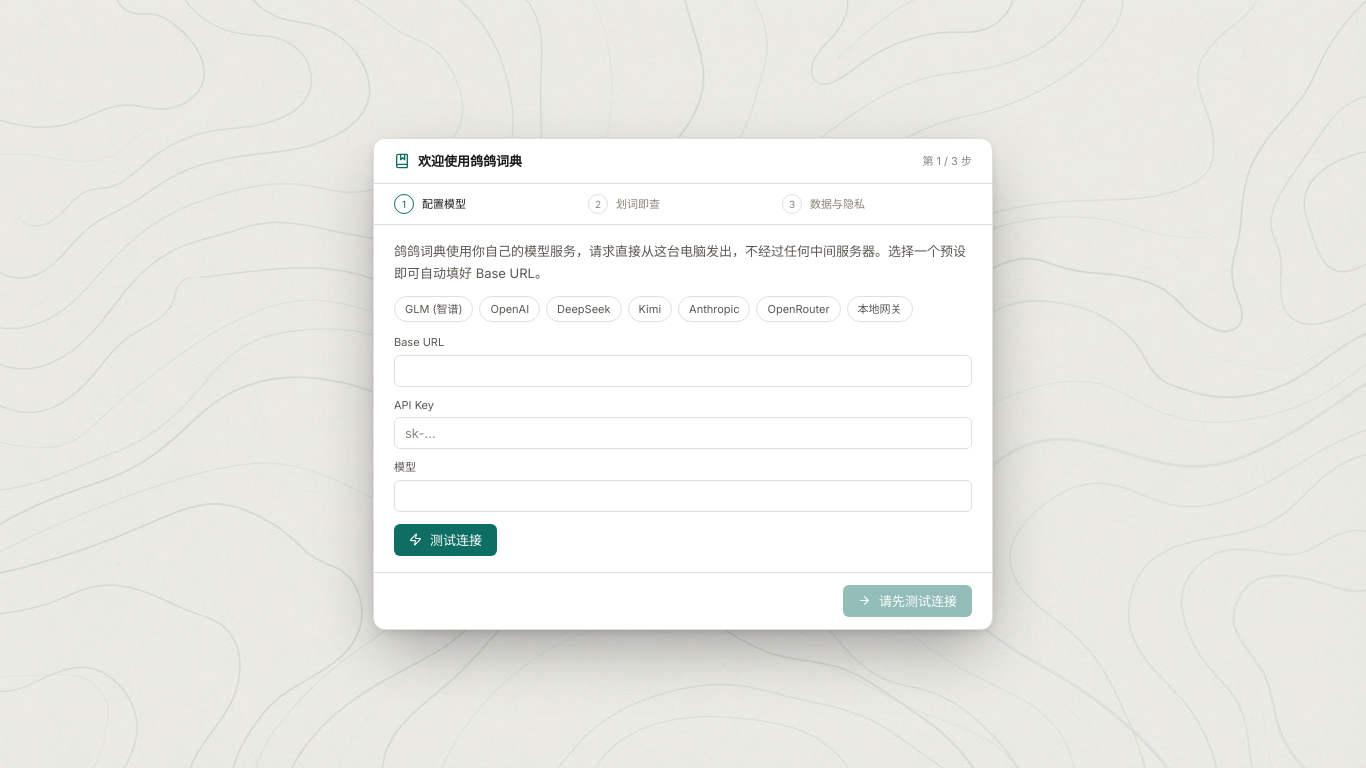
onboarding connection test › says why a test failed instead of always blaming the API key, and keeps the user on this step
Click the button "测试连接" at (446, 540), box 394,524 -> 497,556
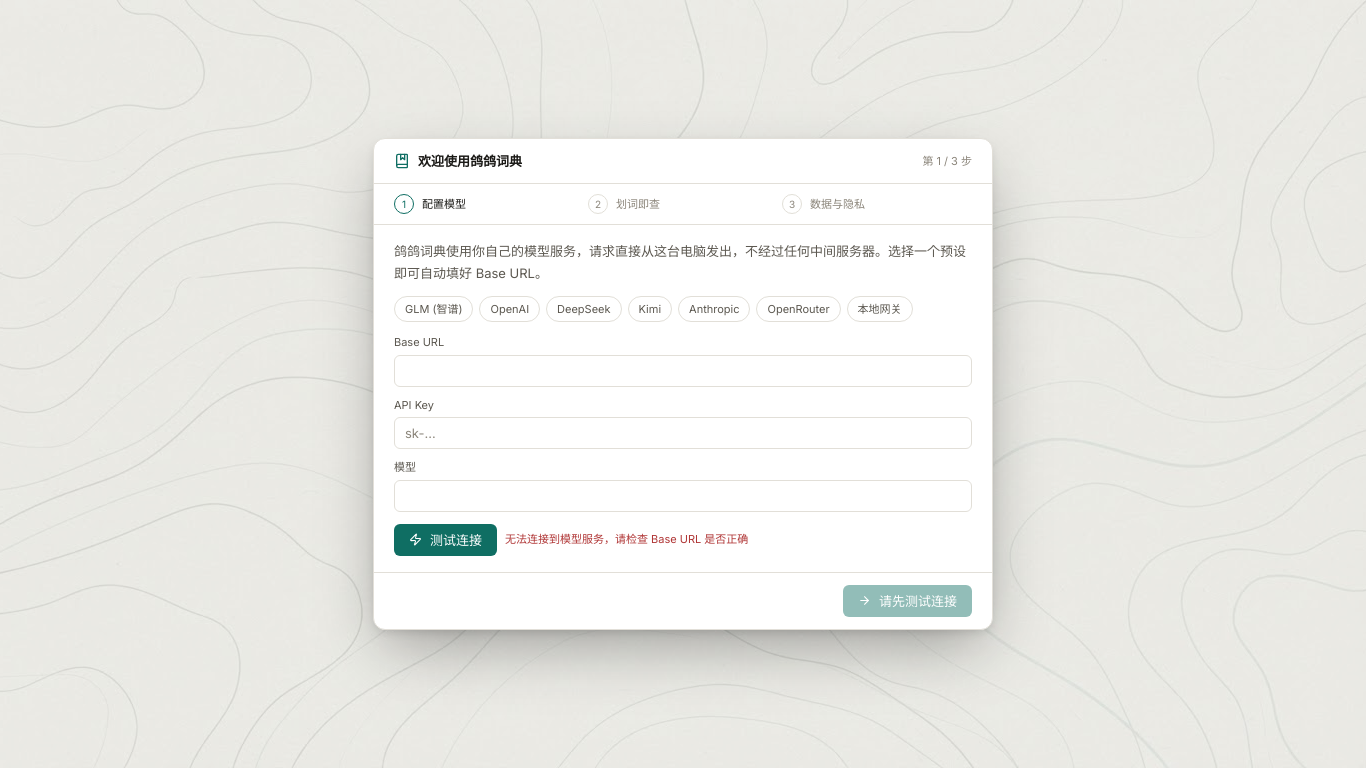
Expected: the message does not show "[network]", 505,532 -> 748,546
Expected: the message reads "无法连接到模型服务，请检查 Base URL 是否正确", 505,532 -> 748,546
